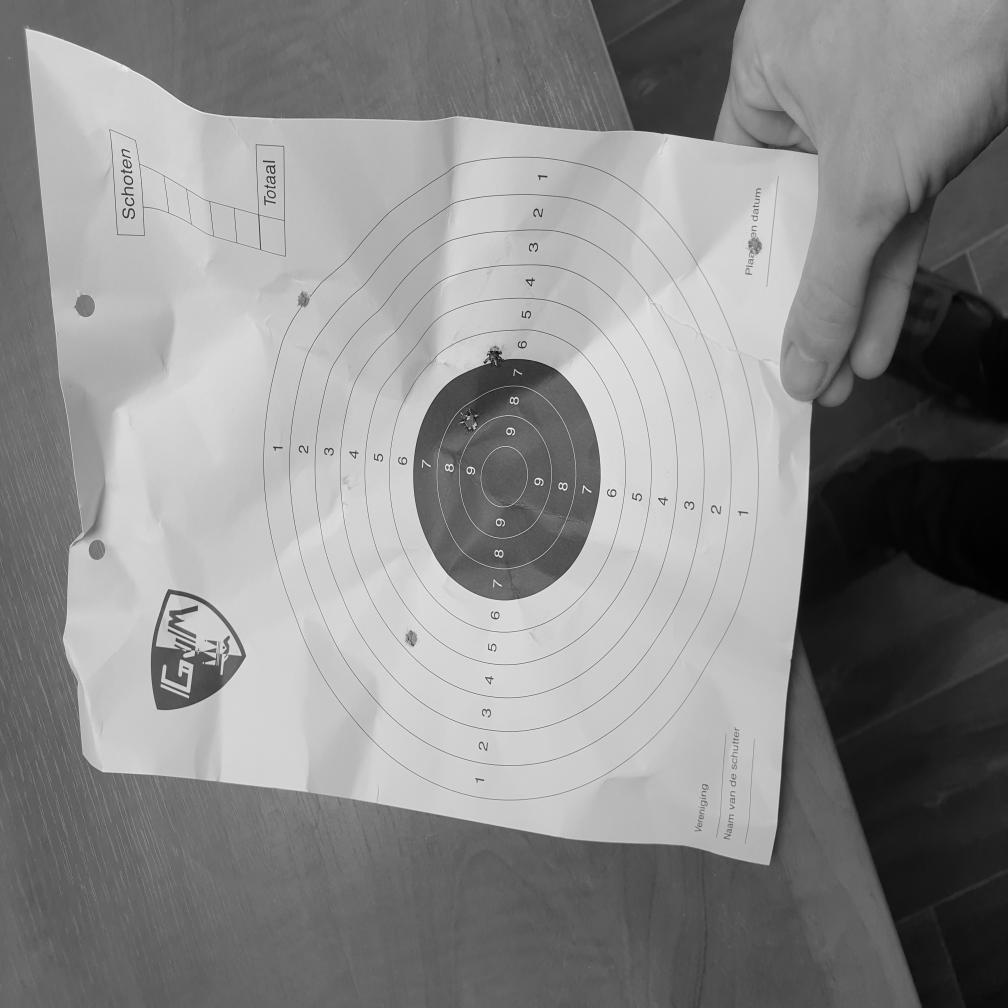0: (748, 234, 764, 256)
1: (297, 288, 310, 309)
4: (404, 629, 419, 649)
7: (485, 344, 504, 368)
9: (459, 404, 480, 434)
Target: (262, 152, 760, 800)
black_contour: (411, 356, 601, 600)
